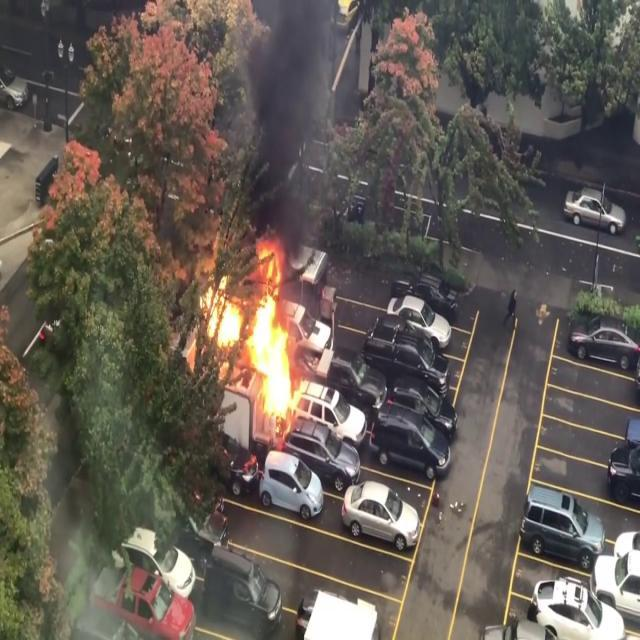Fire: (198, 238, 318, 428)
Smoke: (239, 0, 333, 215)
